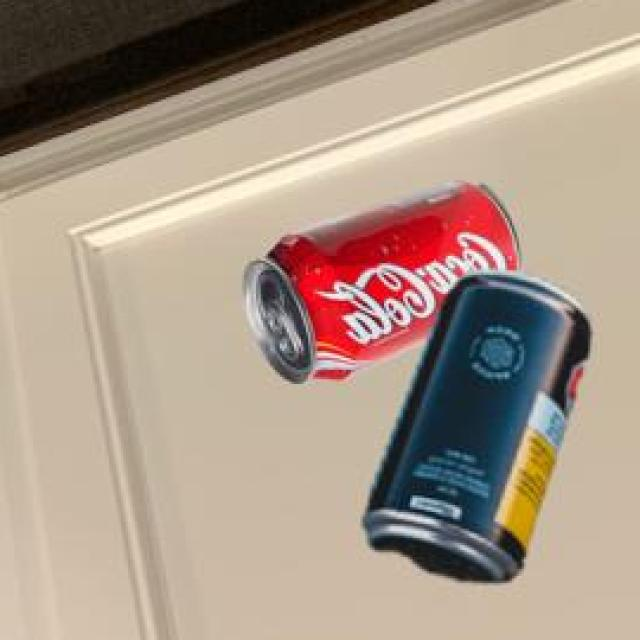logam: (359, 271, 587, 584), (241, 186, 516, 385)
